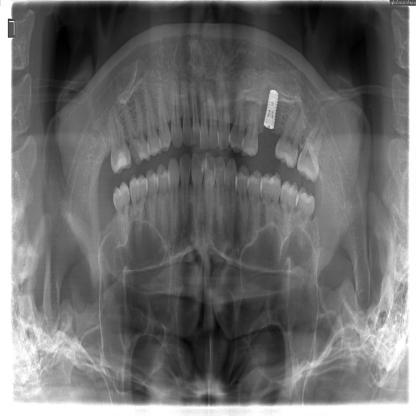ITI: (263, 82, 280, 132)
